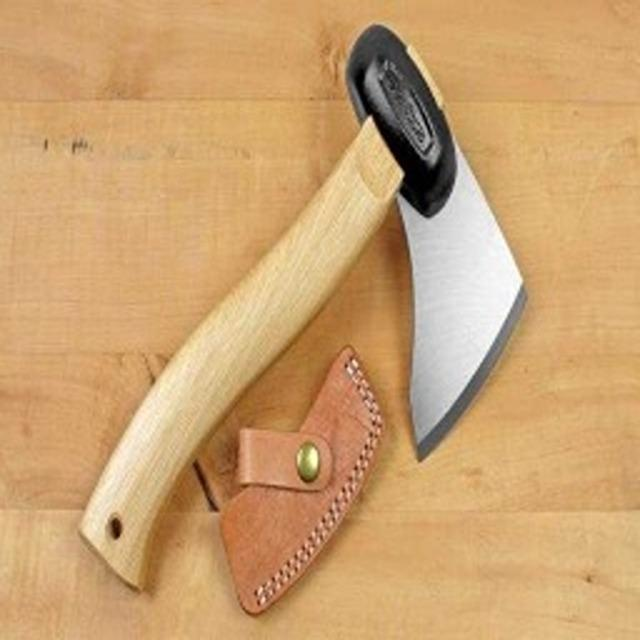ax: (68, 14, 540, 609)
